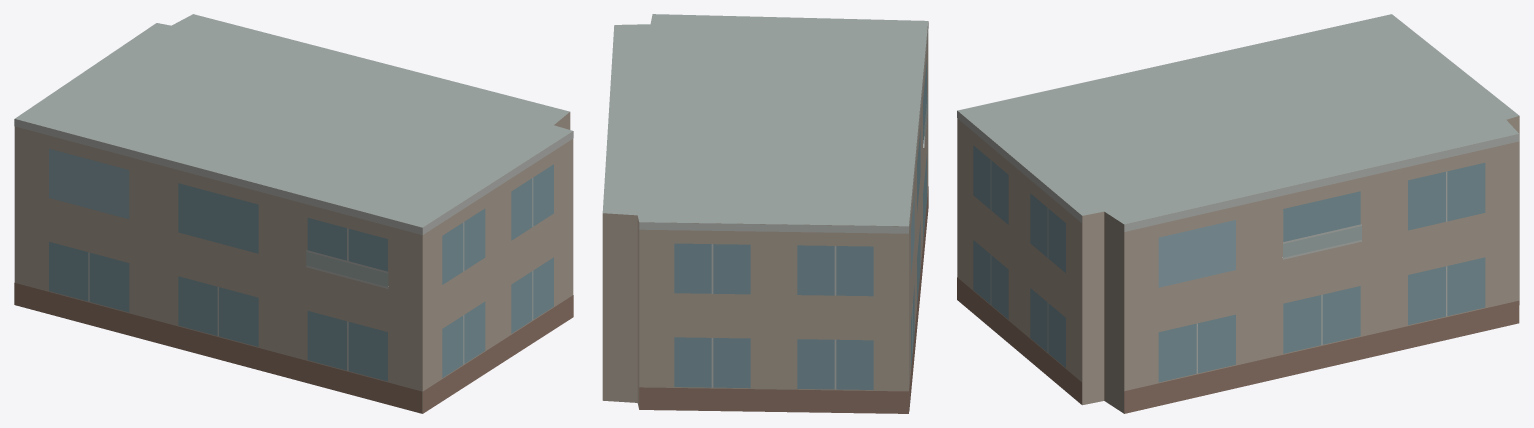
File: survey-upis-32703117.glb
The picture shows the model from 3 angles, left to right: view 1: azimuth 30°, elevation 25°; view 2: azimuth 150°, elevation 25°; view 3: azimuth 270°, elevation 25°; orthographic projection.
Visible parts, largest first — view 1: survey-upis-32703117.tmp; view 2: survey-upis-32703117.tmp; view 3: survey-upis-32703117.tmp.
Boxes of the visible parts, bbox=[...] form: survey-upis-32703117.tmp: bbox=[14, 14, 573, 413]; survey-upis-32703117.tmp: bbox=[602, 14, 928, 413]; survey-upis-32703117.tmp: bbox=[957, 14, 1519, 413].
Size of the model in its own units: 14.55 by 6.1 by 16.43.
